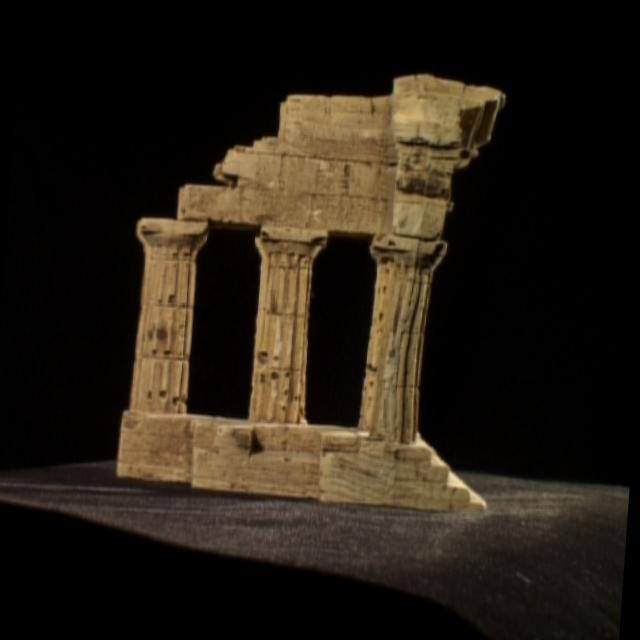Instance-Segmentation: (117, 75, 503, 511)
